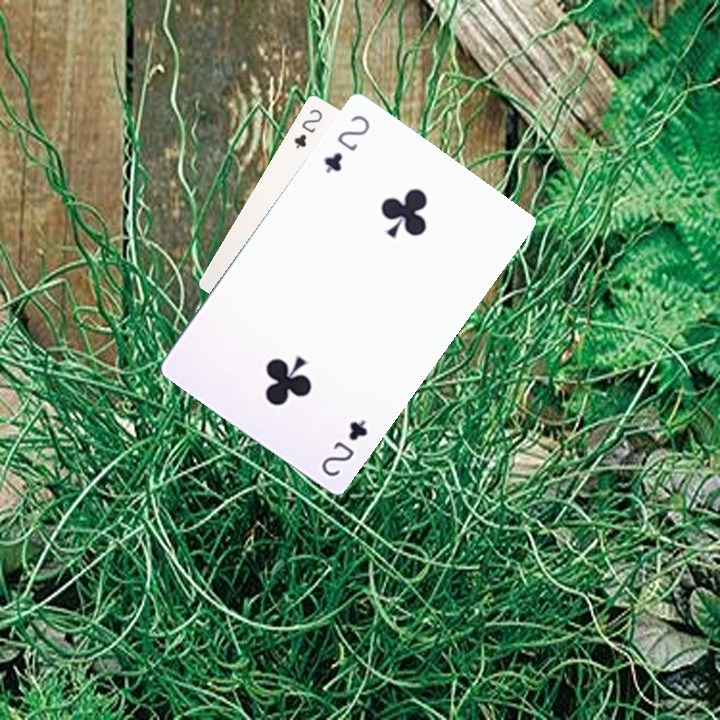2c: (319, 110, 373, 176), (317, 415, 370, 480), (290, 105, 325, 151)
